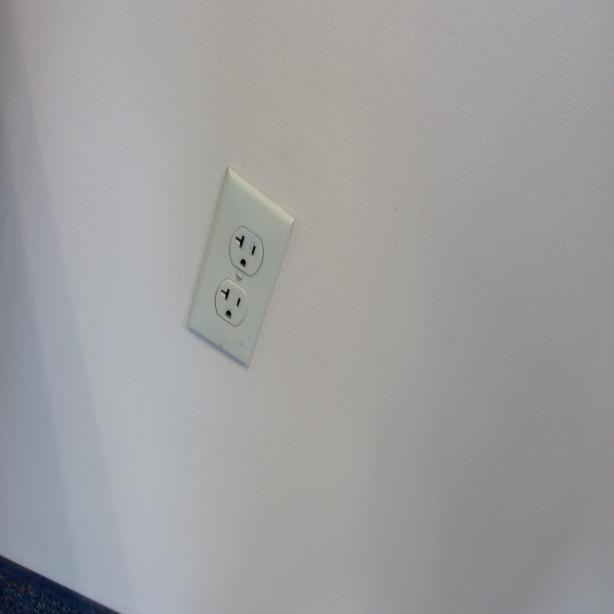typeb: (228, 224, 264, 274), (216, 279, 246, 325)
